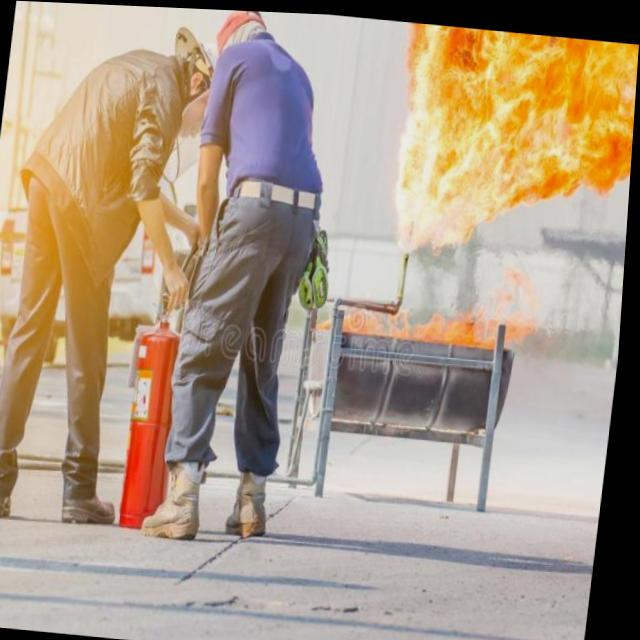FireExtinguisher: (124, 189, 236, 538)
